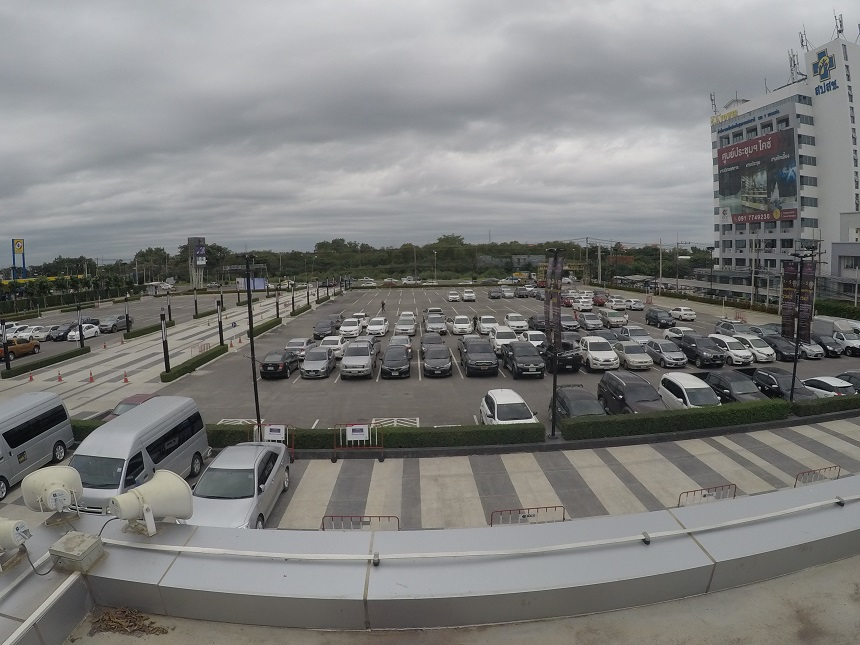busy: (99, 422, 198, 468), (211, 458, 275, 512), (6, 410, 65, 447), (476, 392, 538, 422), (607, 377, 655, 410), (662, 375, 709, 407), (555, 386, 597, 414), (507, 354, 546, 379), (765, 372, 801, 399), (381, 354, 416, 380), (335, 354, 373, 377), (462, 353, 500, 376), (721, 373, 752, 397), (258, 356, 291, 377), (424, 357, 454, 379), (552, 350, 579, 373), (622, 350, 653, 370), (696, 346, 726, 365), (588, 349, 616, 369), (657, 349, 685, 368), (810, 376, 835, 396), (302, 359, 329, 377), (108, 399, 136, 416), (801, 345, 825, 359), (841, 372, 859, 390), (730, 350, 752, 364), (781, 344, 798, 359), (759, 348, 776, 362), (848, 335, 860, 351), (828, 343, 840, 357)
